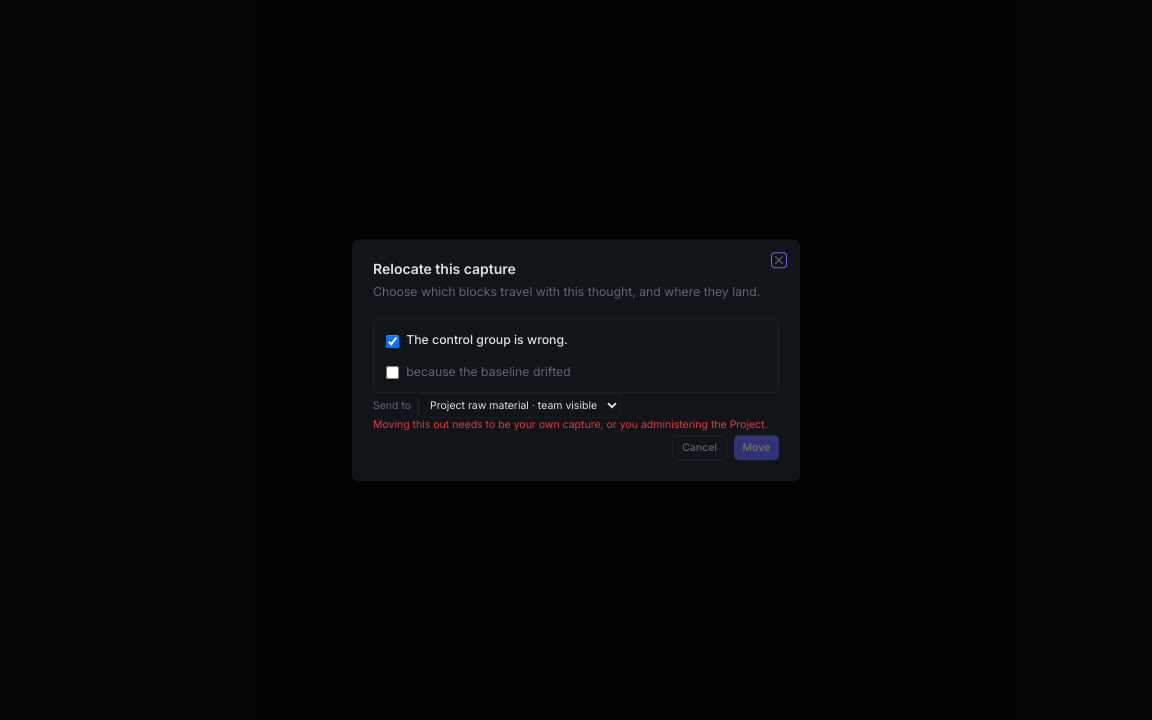
Test: CaptureRelocationDialog › refuses a copy out and says why when the Space forbids it
The width and height of the screenshot is (1152, 720).
Check: the text "The control group is wrong." is shown, box [406, 331, 568, 349]
Select "Personal inbox · only you" in the dropdown at (520, 406), box [418, 393, 621, 418]
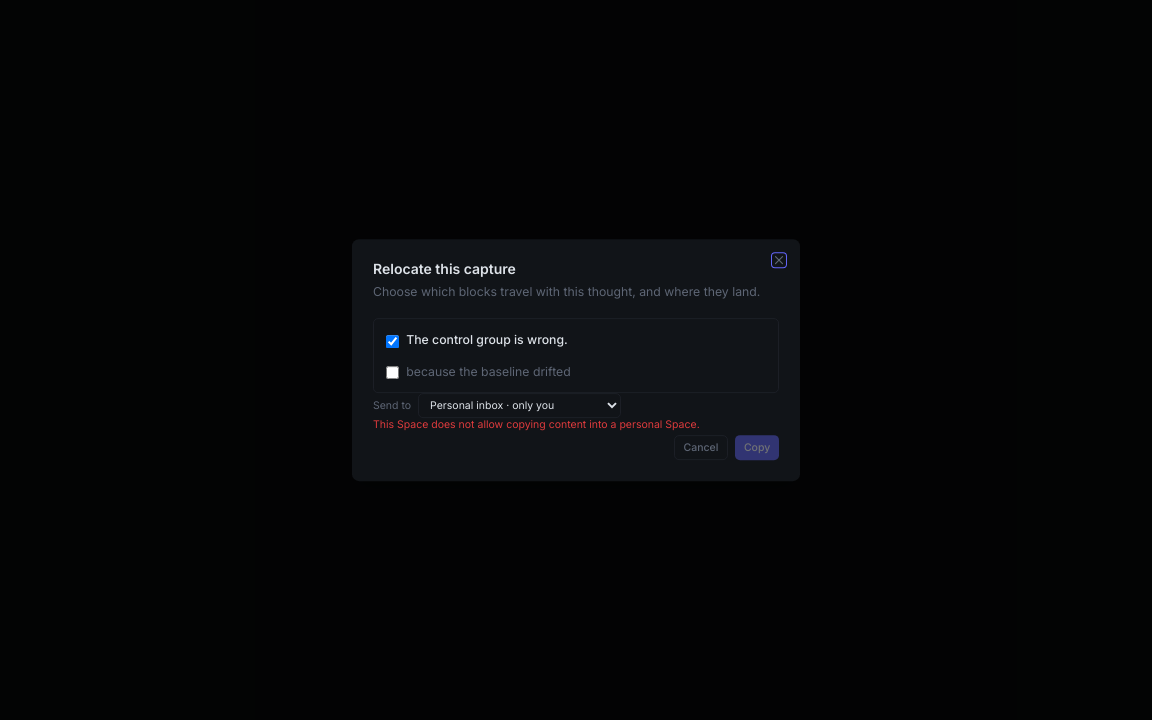
Check: the button "Copy" is disabled, box [735, 435, 779, 460]
Check: the text "does not allow copying content" is shown, box [373, 418, 700, 431]
